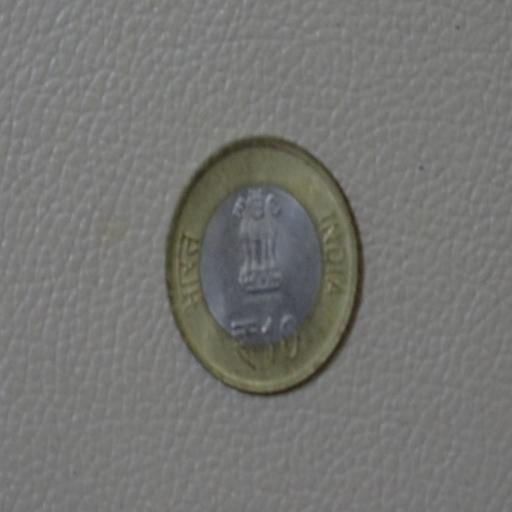rupee10: (163, 134, 368, 400)
